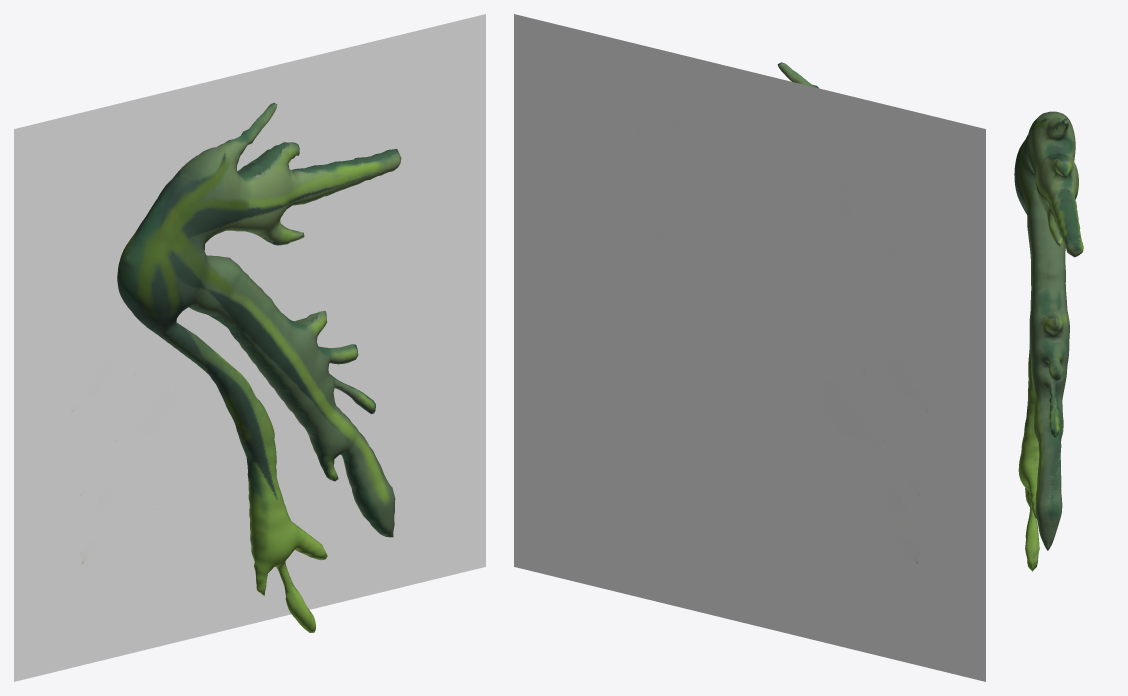
Rendered from seaweed.fbx.
3 renders of one model, left to right at view 1: azimuth 30°, elevation 25°; view 2: azimuth 150°, elevation 25°; view 3: azimuth 270°, elevation 25°, orthographic. The views are drawn at different scales.
Parts seen in each view (by area): view 1: root (×2); view 2: root; view 3: root.
Part boxes in pixels (left/top/right/bottom): root (×2): left=14, top=14, right=485, bottom=681; root: left=514, top=14, right=985, bottom=681; root: left=1014, top=111, right=1083, bottom=571.
Bounding box in the file's own units: 0.477 × 0.534 × 0.1017.
Materials: 2 (2 with a texture image).
